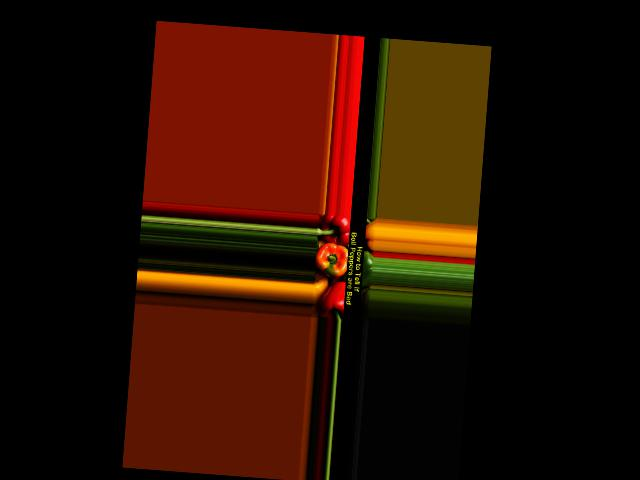bell_pepper: (316, 215, 352, 247)
